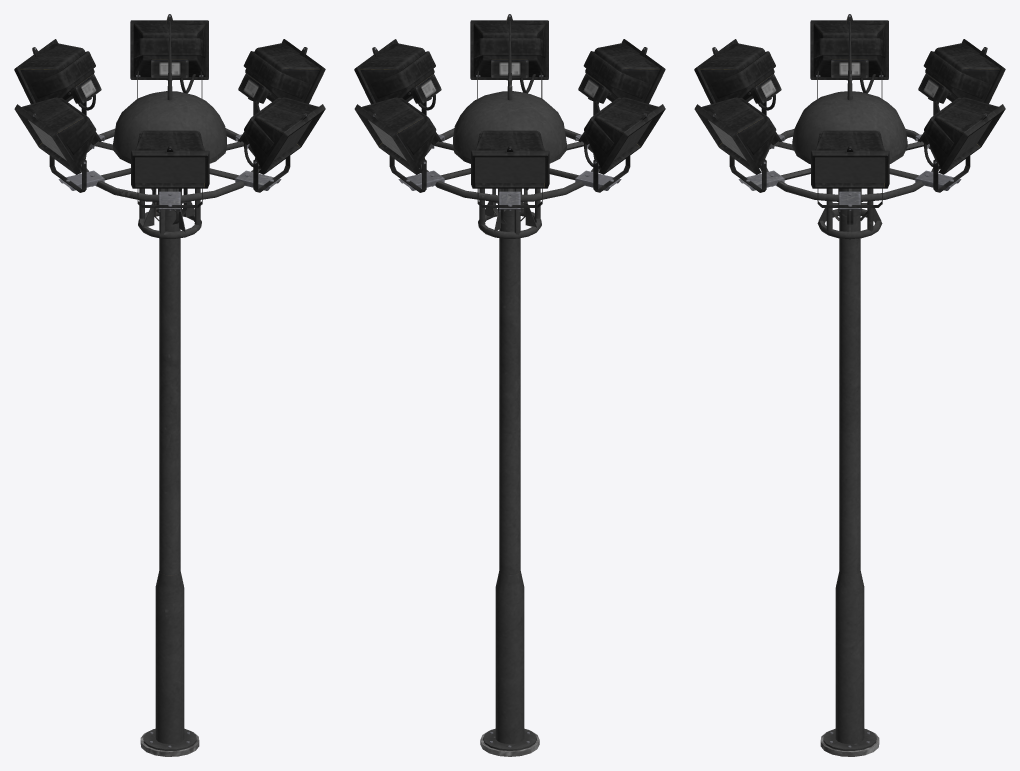
File: SM_FloodLight_3.fbx
3 views of the same model, side by side, from view 1: azimuth 30°, elevation 25°; view 2: azimuth 150°, elevation 25°; view 3: azimuth 270°, elevation 25° (orthographic).
Visible parts, largest first — view 1: SM_FloodLight_3_LOD0; view 2: SM_FloodLight_3_LOD0; view 3: SM_FloodLight_3_LOD0.
Part boxes in pixels (bbox=[...]): SM_FloodLight_3_LOD0: bbox=[14, 14, 325, 756]; SM_FloodLight_3_LOD0: bbox=[354, 14, 665, 756]; SM_FloodLight_3_LOD0: bbox=[694, 14, 1005, 756].
Size of the model in its own units: 176 by 173 by 443.
Materials: 3 (2 with a texture image).
